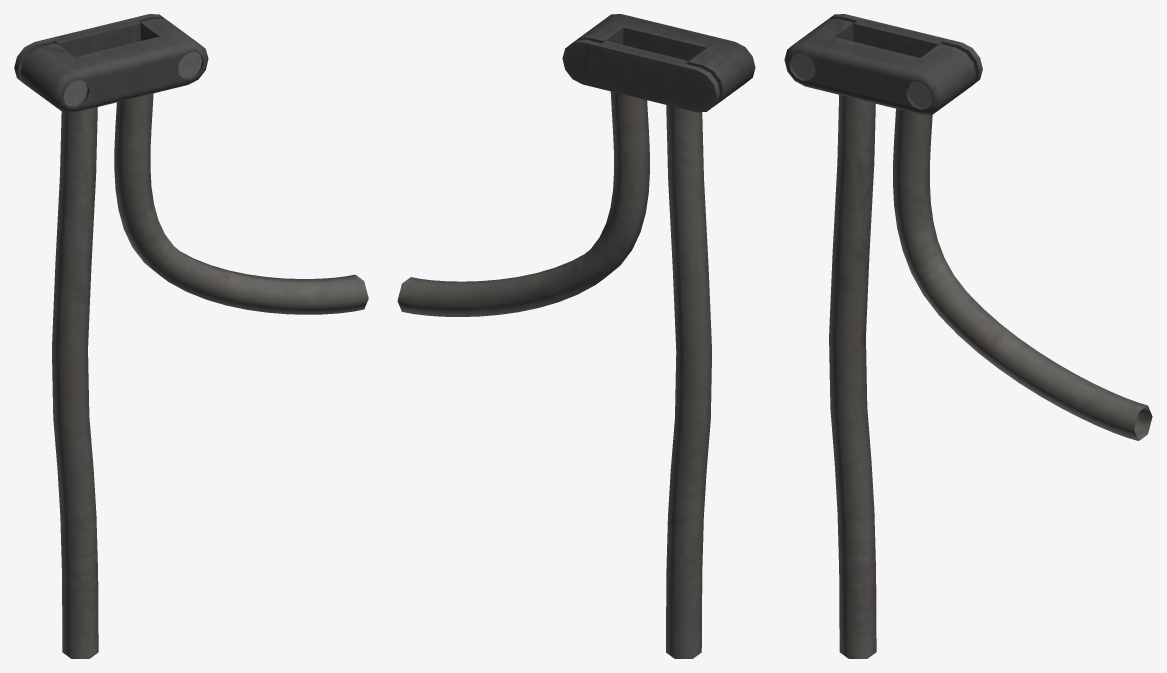
Rendered from cable_to_double_4.gltf.
The picture shows the model from 3 angles, left to right: view 1: azimuth 30°, elevation 25°; view 2: azimuth 150°, elevation 25°; view 3: azimuth 330°, elevation 25°; orthographic projection. The views are drawn at different scales.
Parts seen in each view (by area): view 1: cable_to_double_4; view 2: cable_to_double_4; view 3: cable_to_double_4.
Part boxes in pixels (x1,y1,x2,y2): cable_to_double_4: (14,14,368,658); cable_to_double_4: (397,14,755,658); cable_to_double_4: (784,14,1152,658).
Bounding box in the file's own units: 0.1178 × 0.2072 × 0.0259.
1 material, 1 textured.
